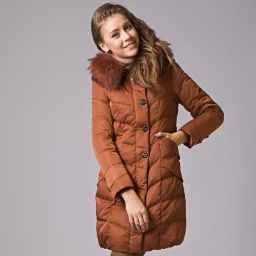face: (91, 3, 168, 61)
